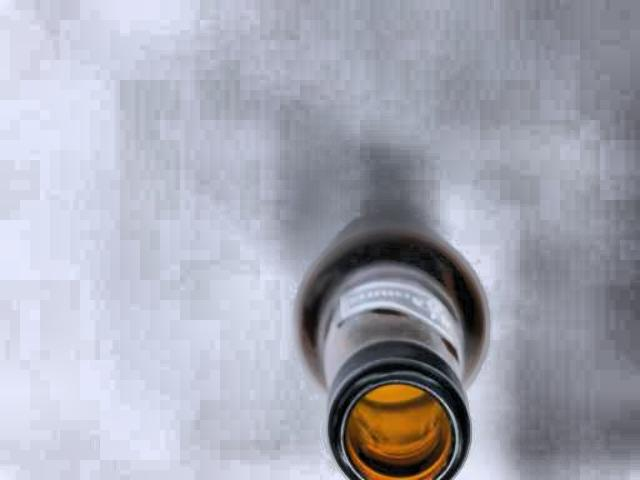Bottles: (294, 229, 487, 480)
